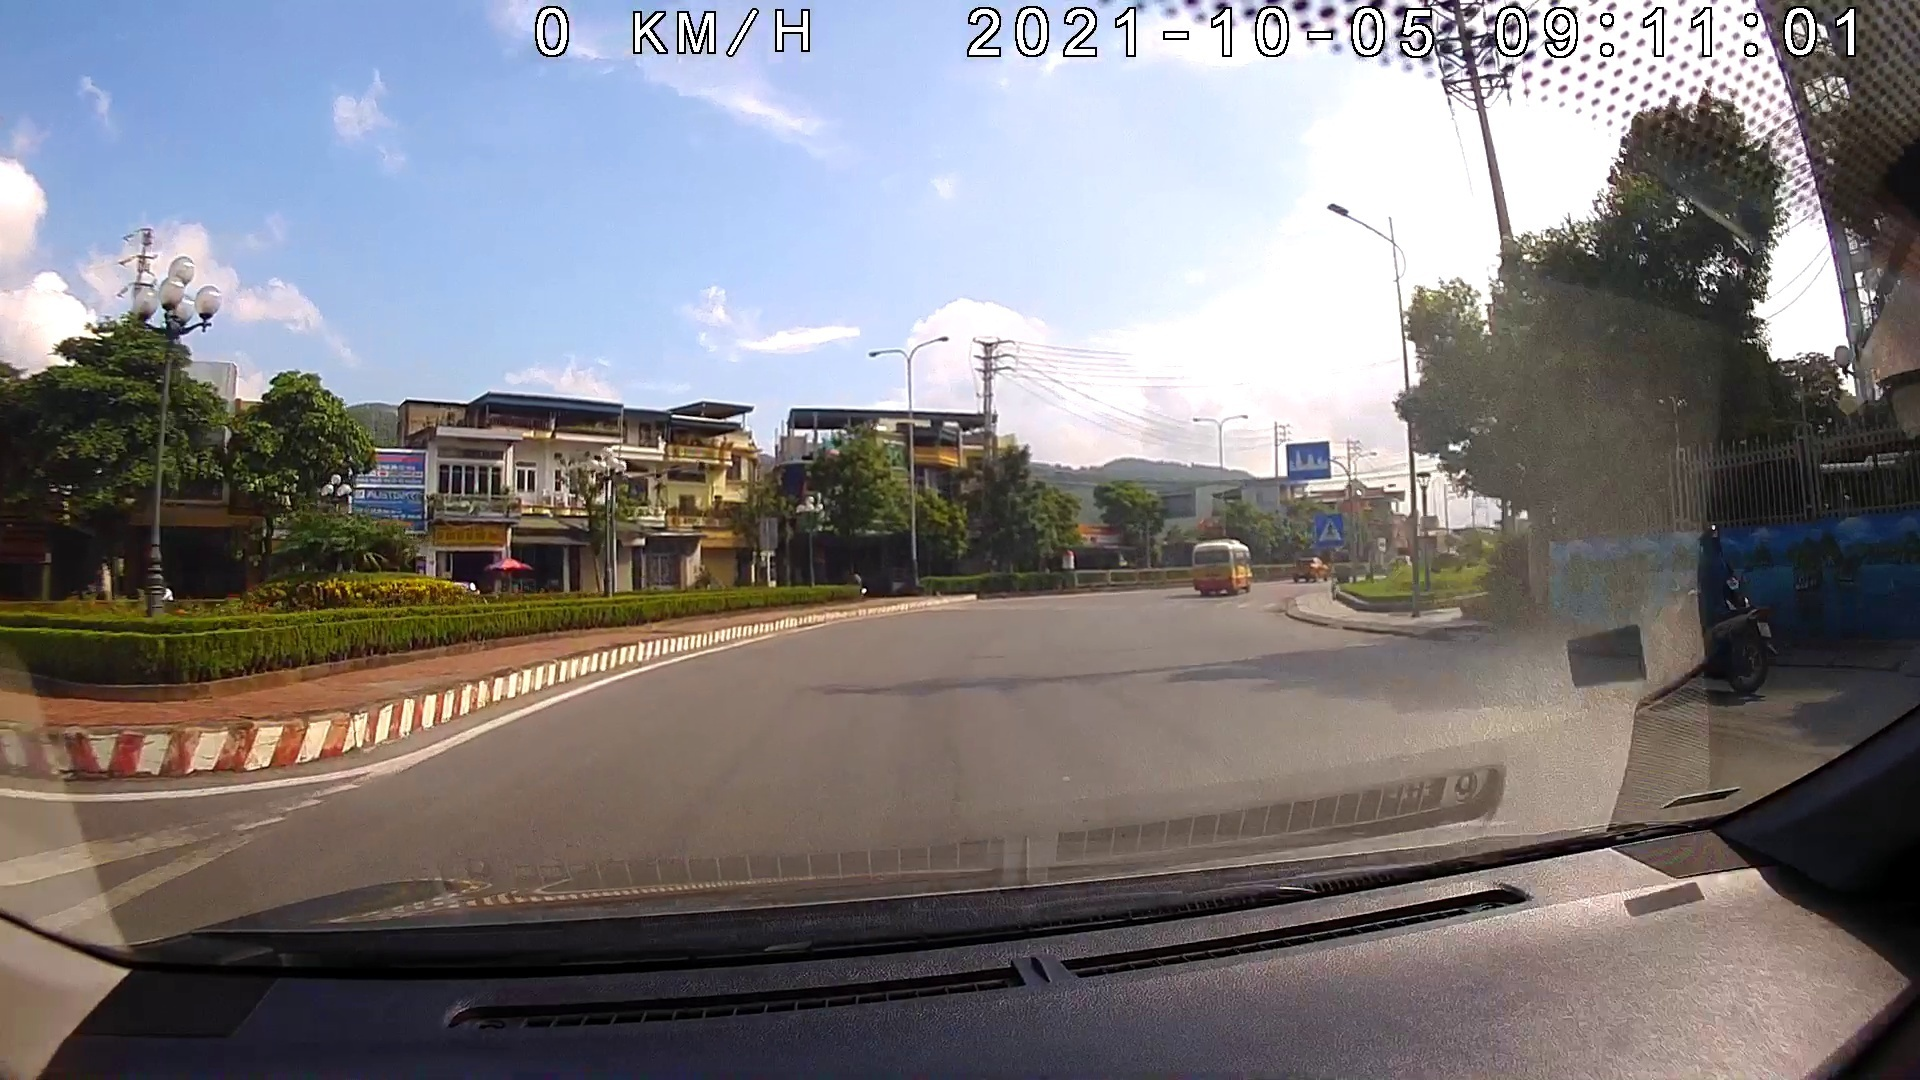Bien khac: (1284, 440, 1331, 477)
Nguoi di bo: (1315, 512, 1341, 545)
